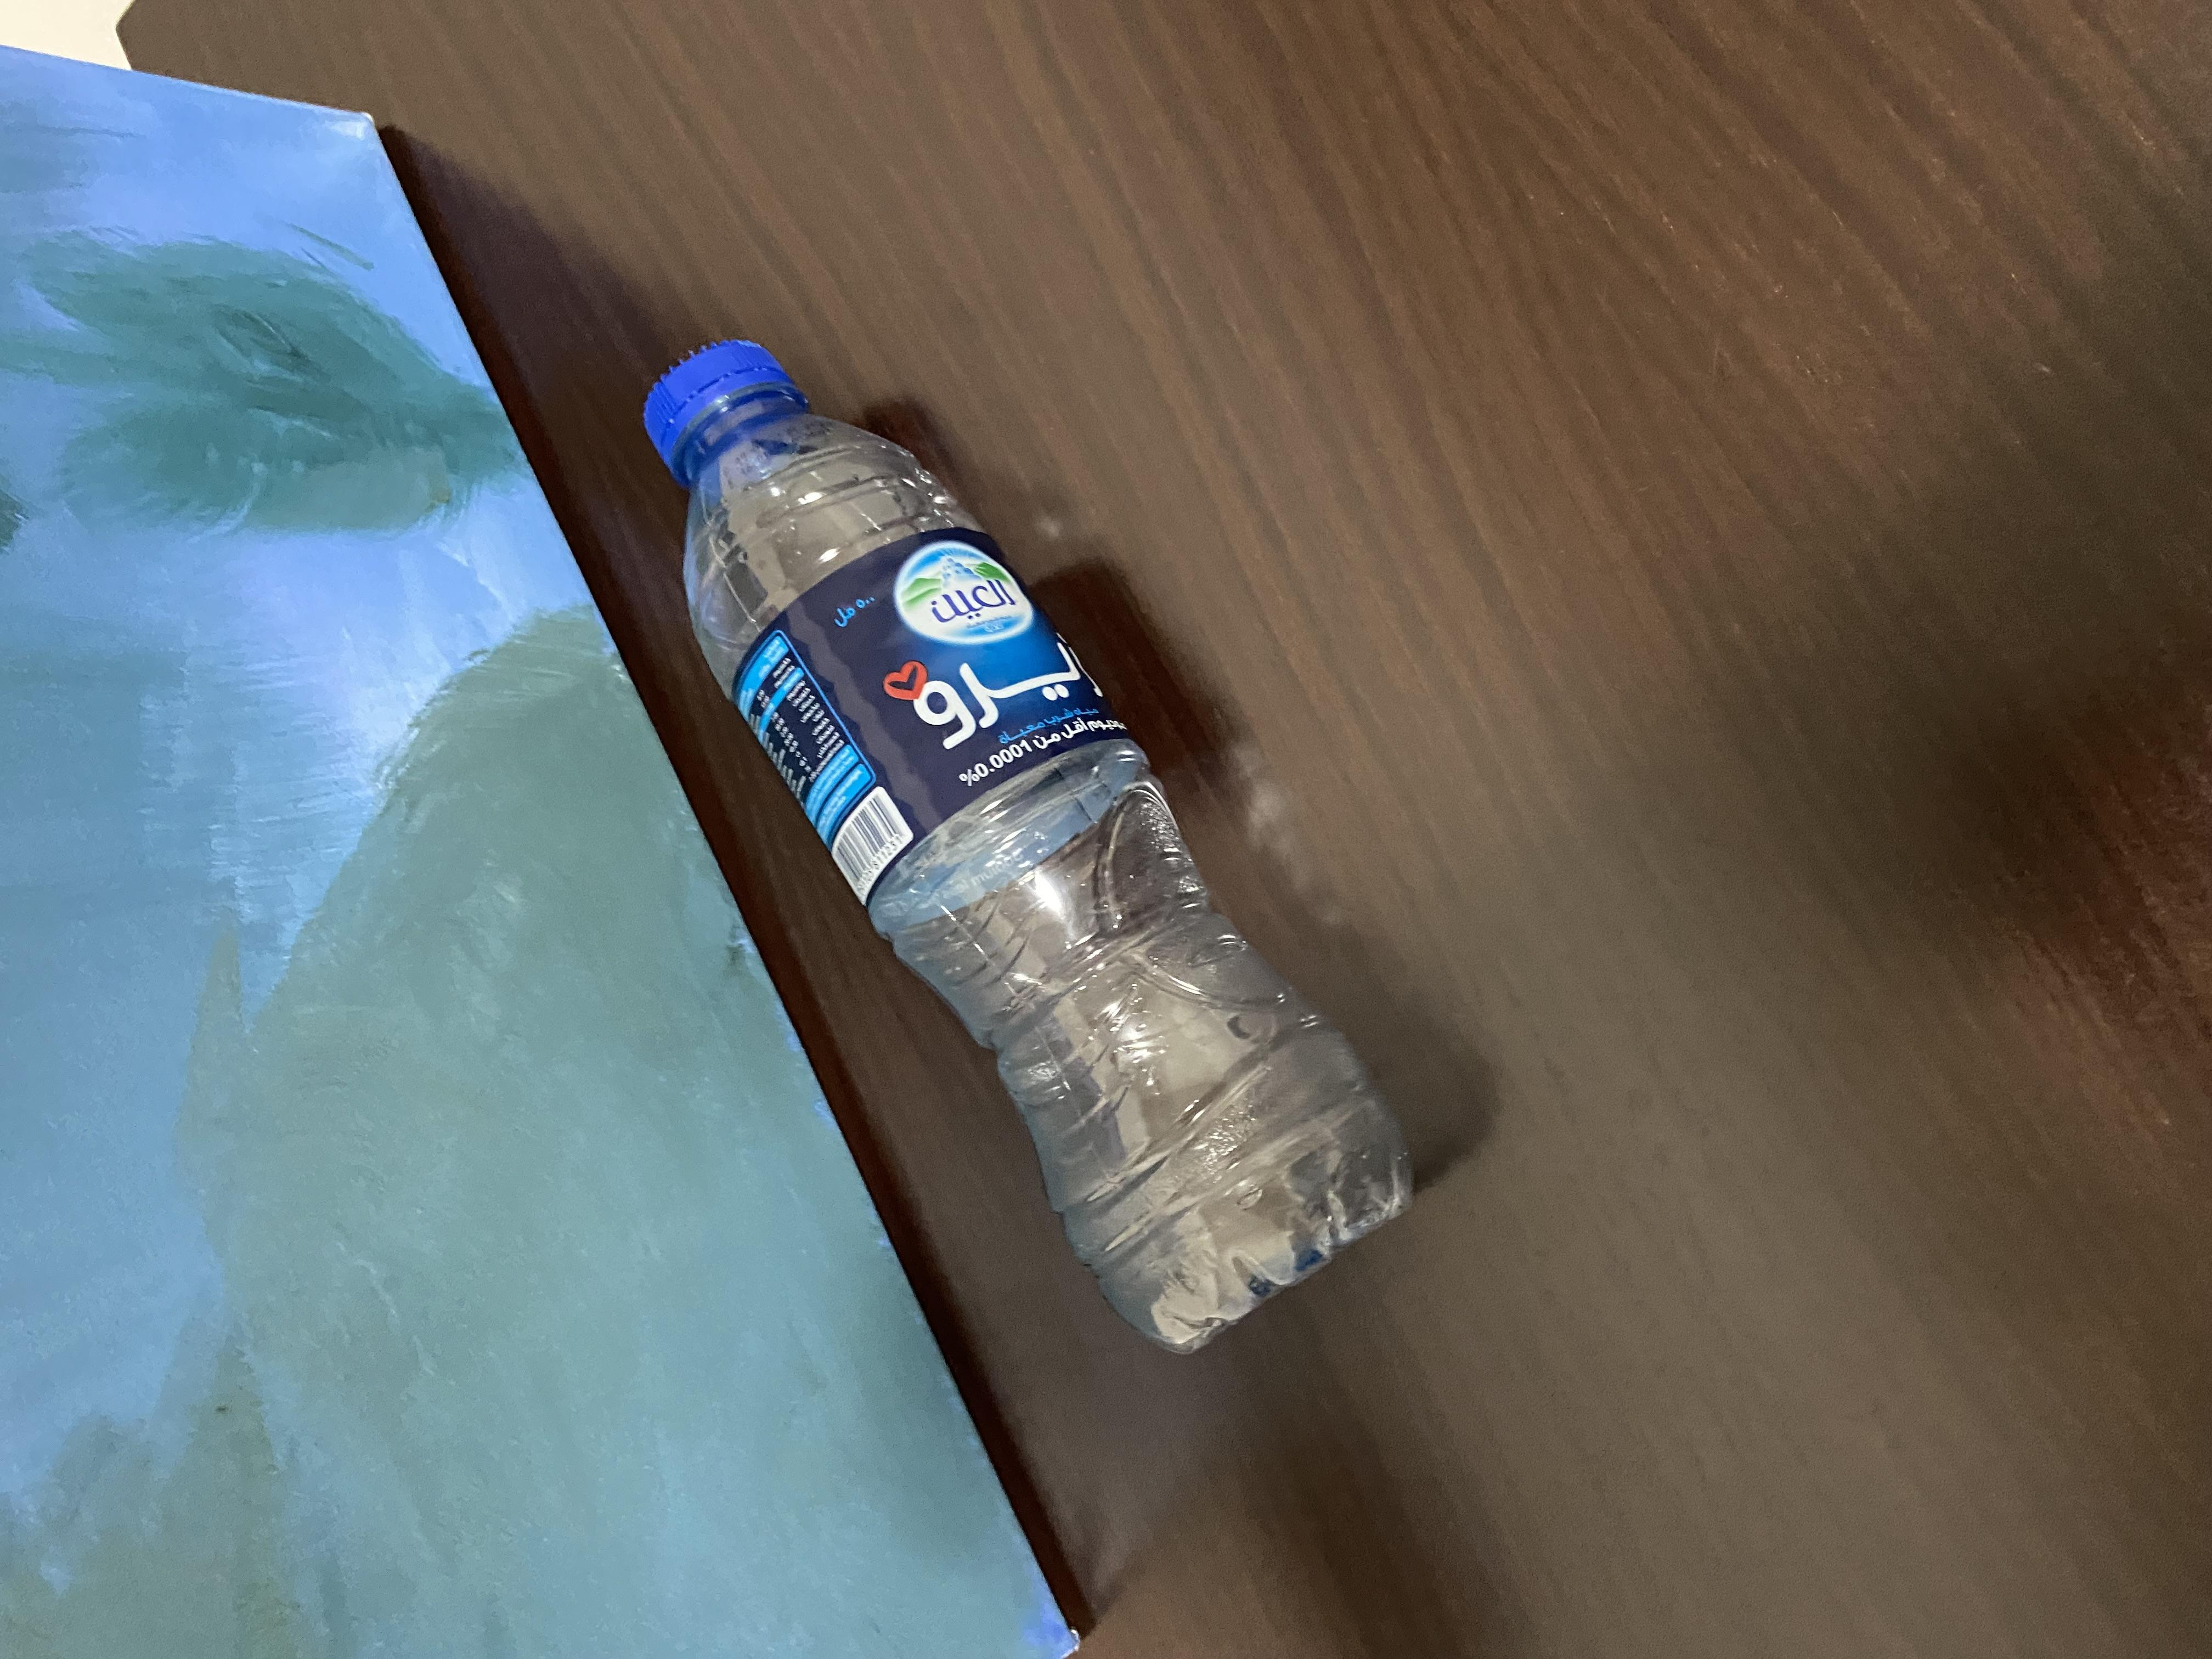bottle: (395, 471, 1766, 1082)
